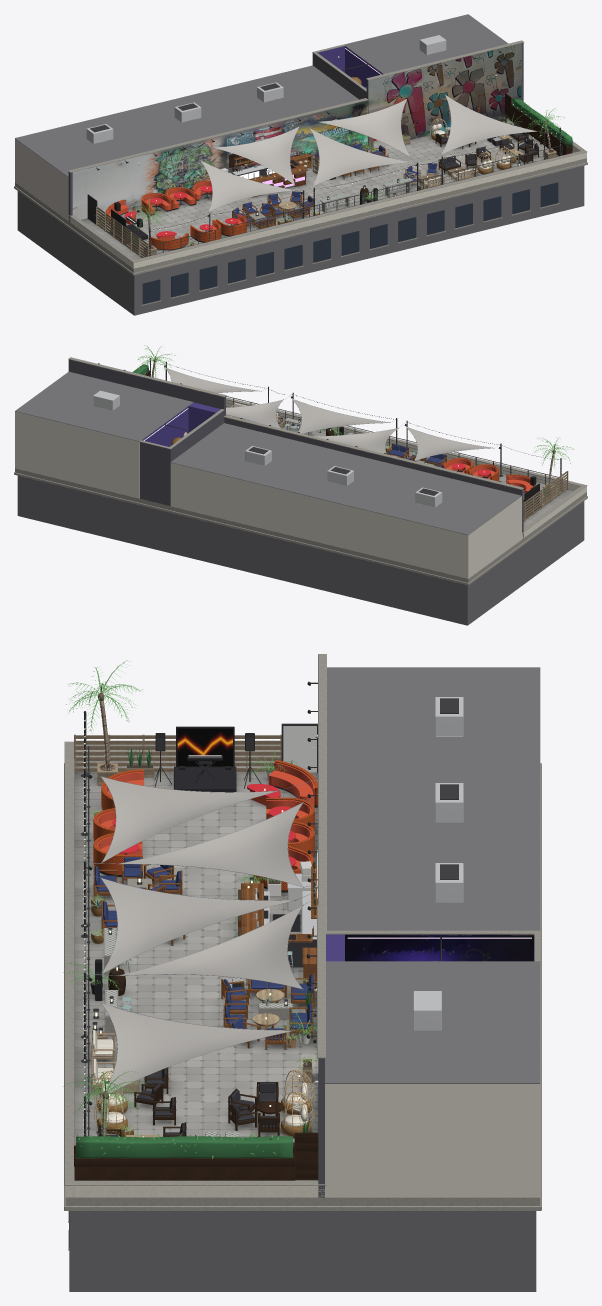
Rendered from rooftop.glb.
3 views of the same model, one above another, from view 1: azimuth 30°, elevation 25°; view 2: azimuth 150°, elevation 25°; view 3: azimuth 270°, elevation 25° (orthographic). The views are drawn at different scales.
Parts seen in each view (by area): view 1: Facade, Roof membrane, Pavers, Mural west.001, Sail, Concrete, Mural east.003, Window dark, Plaster white, Steel dark, Stucco, Steel brushed (+19 smaller); view 2: Facade, Stucco, Roof membrane, Concrete, Wall dark, Sail, Steel brushed, Indigo wall, Plaster white, Steel dark, Pavers, Wood pallet (+4 smaller); view 3: Roof membrane, Facade, Pavers, Sail, Stucco, Concrete, Wood dark, Hall graffiti.001, Leaf dark, Steel brushed, Wood pallet, Plaster white (+22 smaller).
Boxes of the visible parts, box(x1,y1,x2,y2) form: Facade: box(17, 166, 584, 315); Roof membrane: box(15, 14, 507, 177); Pavers: box(81, 116, 573, 259); Mural west.001: box(72, 100, 367, 219); Sail: box(200, 95, 536, 211); Concrete: box(14, 40, 587, 305); Mural east.003: box(368, 43, 521, 149); Window dark: box(142, 182, 558, 304); Plaster white: box(68, 145, 586, 268); Steel dark: box(87, 50, 562, 256); Stucco: box(15, 139, 68, 220); Steel brushed: box(86, 35, 446, 187); Facade: box(17, 475, 584, 625); Stucco: box(15, 411, 521, 578); Roof membrane: box(15, 371, 521, 535); Concrete: box(14, 357, 587, 585); Wall dark: box(68, 359, 523, 538); Sail: box(165, 368, 491, 460); Steel brushed: box(93, 390, 442, 507); Indigo wall: box(142, 402, 220, 446); Plaster white: box(226, 400, 586, 539); Steel dark: box(150, 358, 562, 491); Pavers: box(226, 406, 573, 527); Wood pallet: box(226, 415, 566, 520); Roof membrane: box(325, 667, 540, 1083); Facade: box(69, 1211, 536, 1291); Pavers: box(74, 761, 318, 1180); Sail: box(101, 776, 302, 1097); Stucco: box(325, 1084, 540, 1197); Concrete: box(64, 654, 541, 1250); Wood dark: box(74, 1076, 318, 1180); Hall graffiti.001: box(345, 934, 534, 961); Leaf dark: box(76, 746, 313, 1158); Steel brushed: box(255, 697, 463, 1030); Wood pallet: box(74, 735, 312, 1097); Plaster white: box(65, 750, 325, 1197).
Size of the model in its own units: 38.72 by 9.62 by 17.76.
79 materials, 23 textured.
